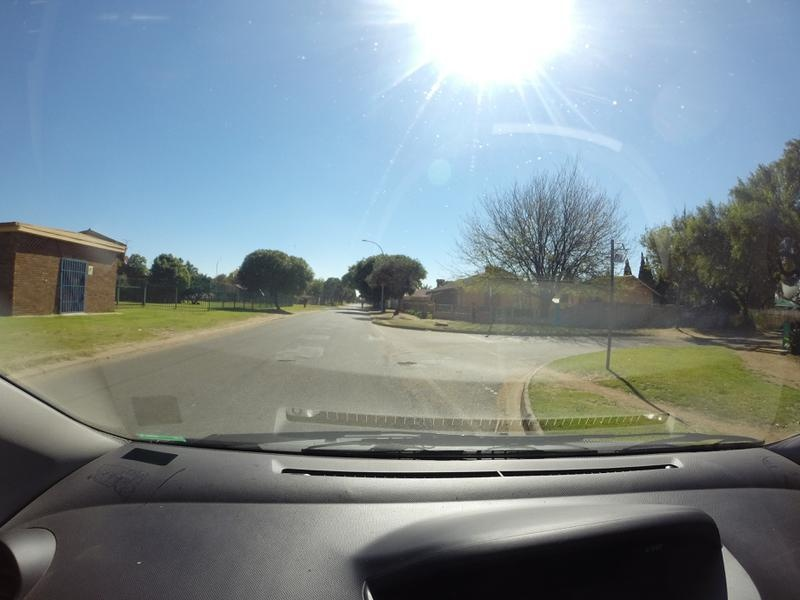pothole: (391, 356, 420, 367), (272, 356, 293, 364)
